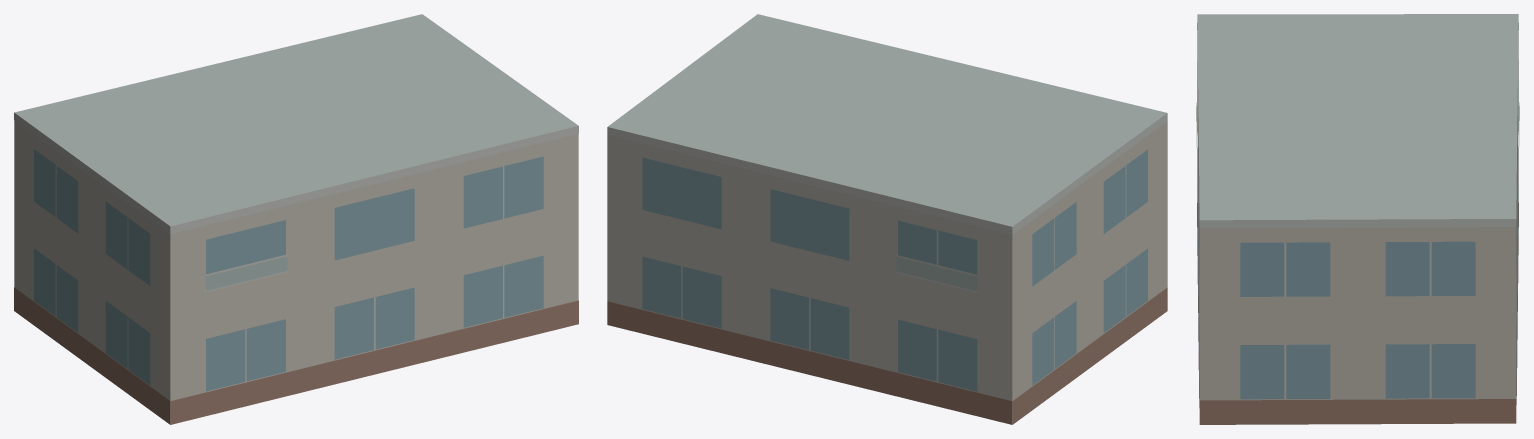
The model's file is survey-upis-32489156.glb.
The picture shows the model from 3 angles, left to right: view 1: azimuth 30°, elevation 25°; view 2: azimuth 150°, elevation 25°; view 3: azimuth 270°, elevation 25°; orthographic projection. The views are drawn at different scales.
Parts seen in each view (by area): view 1: survey-upis-32489156.tmp; view 2: survey-upis-32489156.tmp; view 3: survey-upis-32489156.tmp.
Boxes of the visible parts, x1,y1,x2,y2 form: survey-upis-32489156.tmp: [14, 14, 578, 424]; survey-upis-32489156.tmp: [607, 14, 1167, 424]; survey-upis-32489156.tmp: [1196, 14, 1519, 424].
Size of the model in its own units: 13.2 by 6.1 by 8.75.
